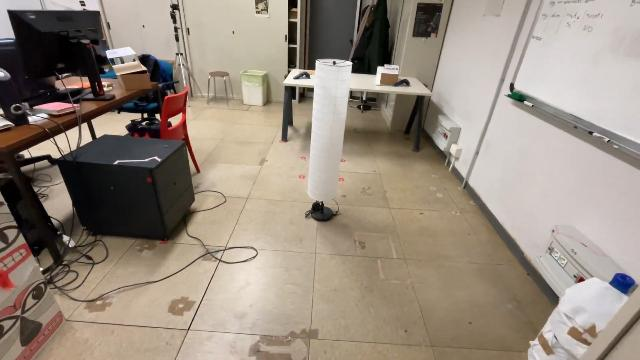Chair: (119, 85, 203, 177)
Lamp: (302, 56, 356, 224)
Stool: (204, 70, 236, 109)
